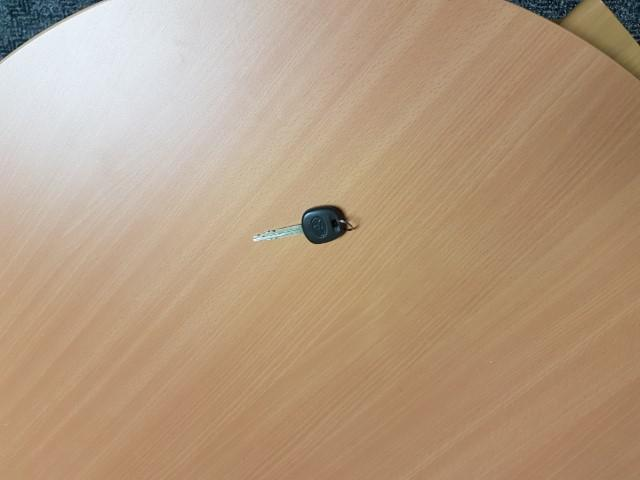key: (251, 205, 345, 246)
